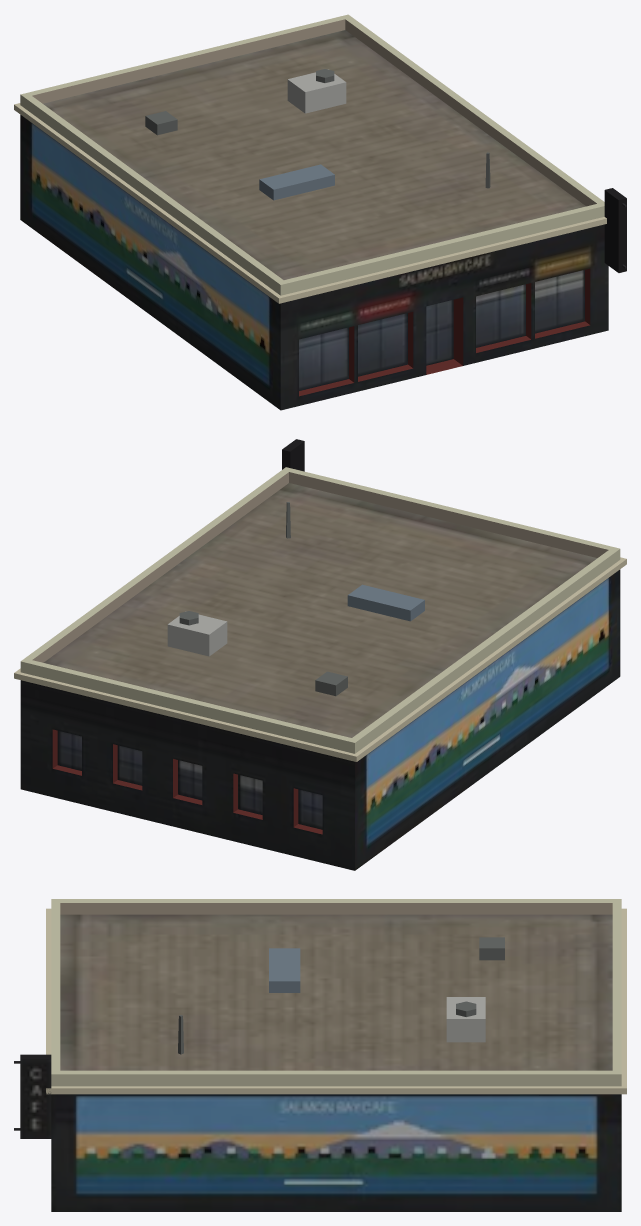
Rendered from seattle_low_b.glb.
The picture shows the model from 3 angles, top to bottom: view 1: azimuth 30°, elevation 25°; view 2: azimuth 150°, elevation 25°; view 3: azimuth 270°, elevation 25°; orthographic projection. The views are drawn at different scales.
Visible parts, largest first — view 1: seattle_low_b; view 2: seattle_low_b; view 3: seattle_low_b.
Boxes of the visible parts, x1,y1,x2,y2 form: seattle_low_b: (14,14,626,410); seattle_low_b: (14,439,626,870); seattle_low_b: (14,899,626,1211).
Size of the model in its own units: 16.4 by 6.95 by 23.64.
1 material, 1 textured.
